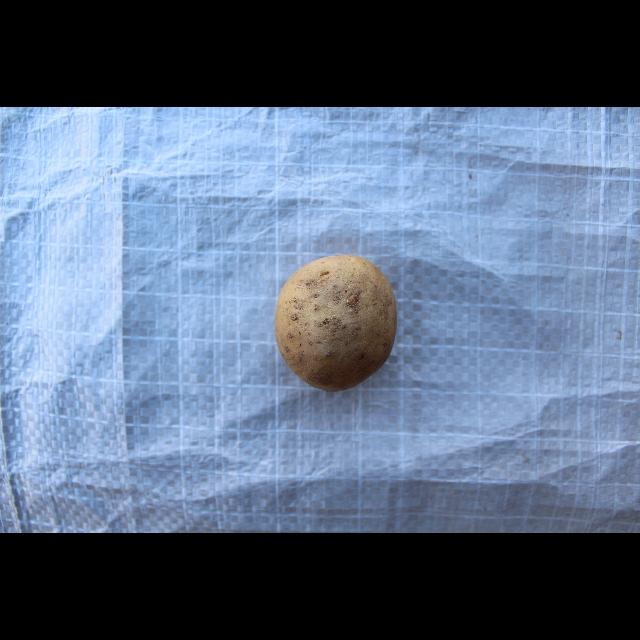Diseased-fungal potato: (270, 250, 398, 394)
